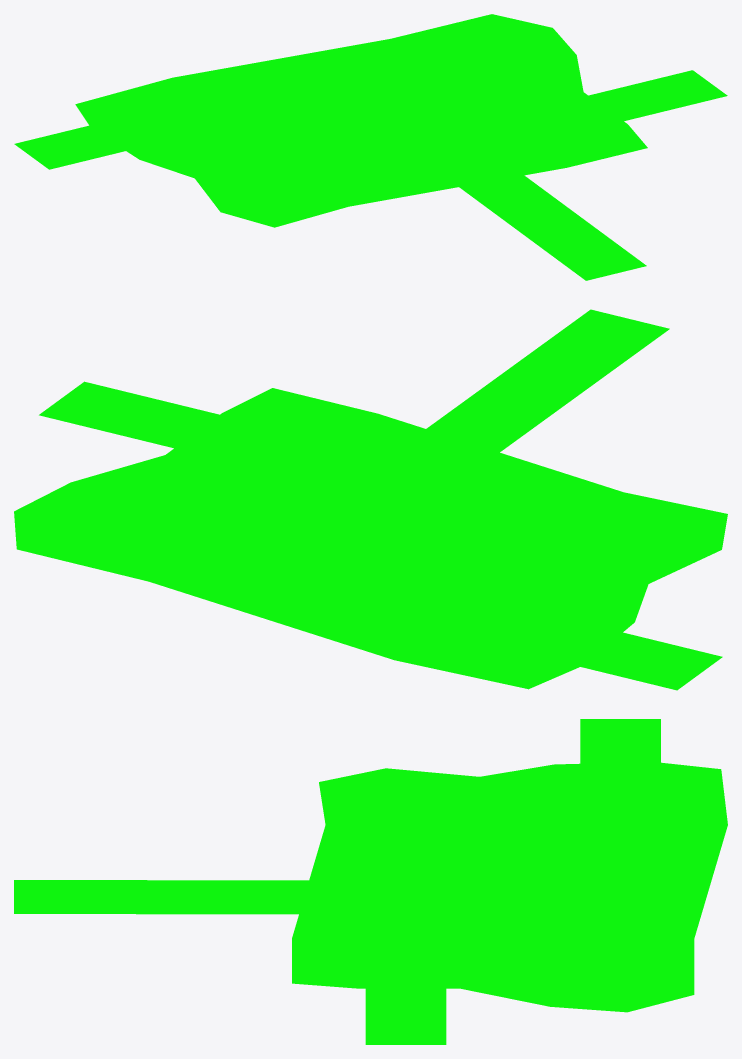
File: s05b_tb3-floor.glb
3 views of the same model, one above another, from view 1: azimuth 30°, elevation 25°; view 2: azimuth 150°, elevation 25°; view 3: azimuth 270°, elevation 25° (orthographic). The views are drawn at different scales.
Parts seen in each view (by area): view 1: collision_floor-colonly; view 2: collision_floor-colonly; view 3: collision_floor-colonly.
Part boxes in pixels (<box>): collision_floor-colonly: <box>14,14,727,280</box>; collision_floor-colonly: <box>14,309,727,690</box>; collision_floor-colonly: <box>14,719,727,1044</box>.
Bounding box in the file's own units: 57.45 × 0.1016 × 53.22.
